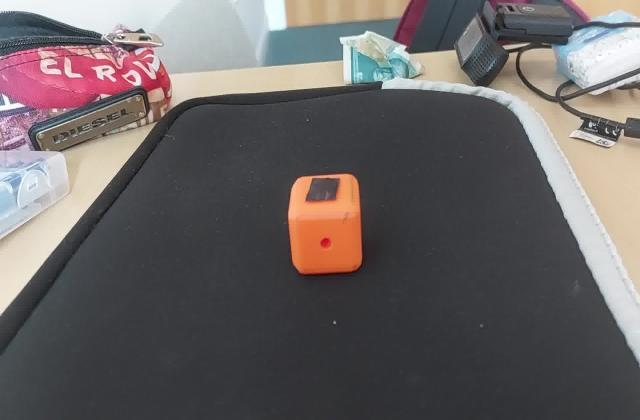black: (299, 176, 345, 204)
cube: (288, 171, 366, 278)
